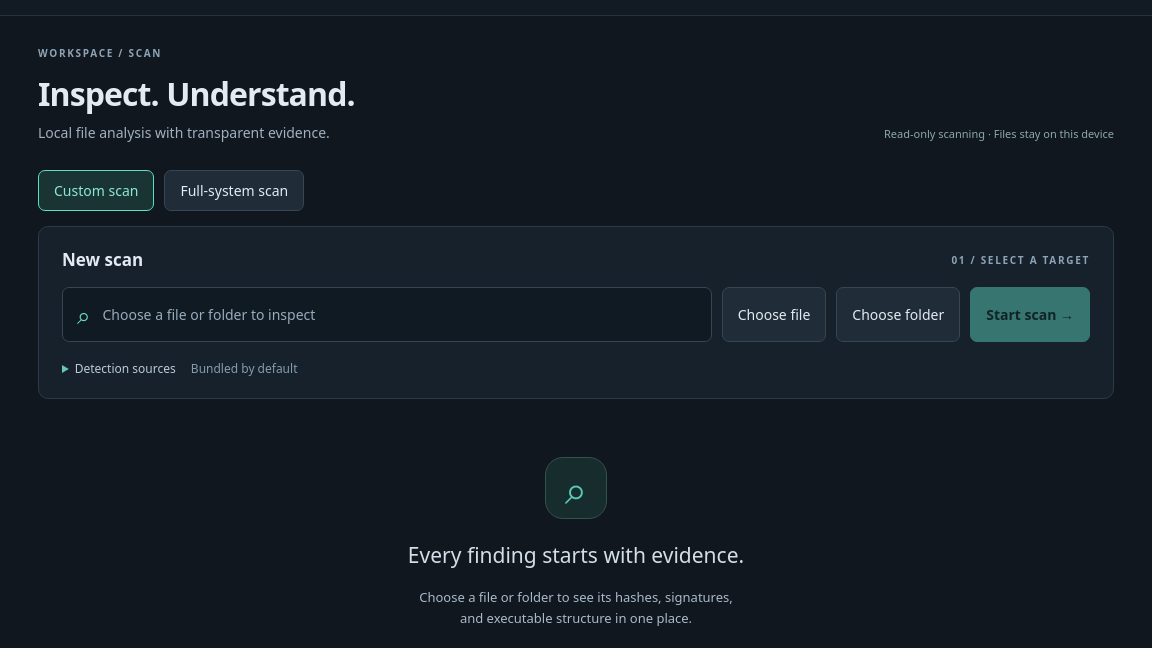
Test: desktop scan workflow › shows PE observations and flags integers beyond exact UI precision
Click the button "Choose folder" at (898, 315), box [836, 287, 960, 342]
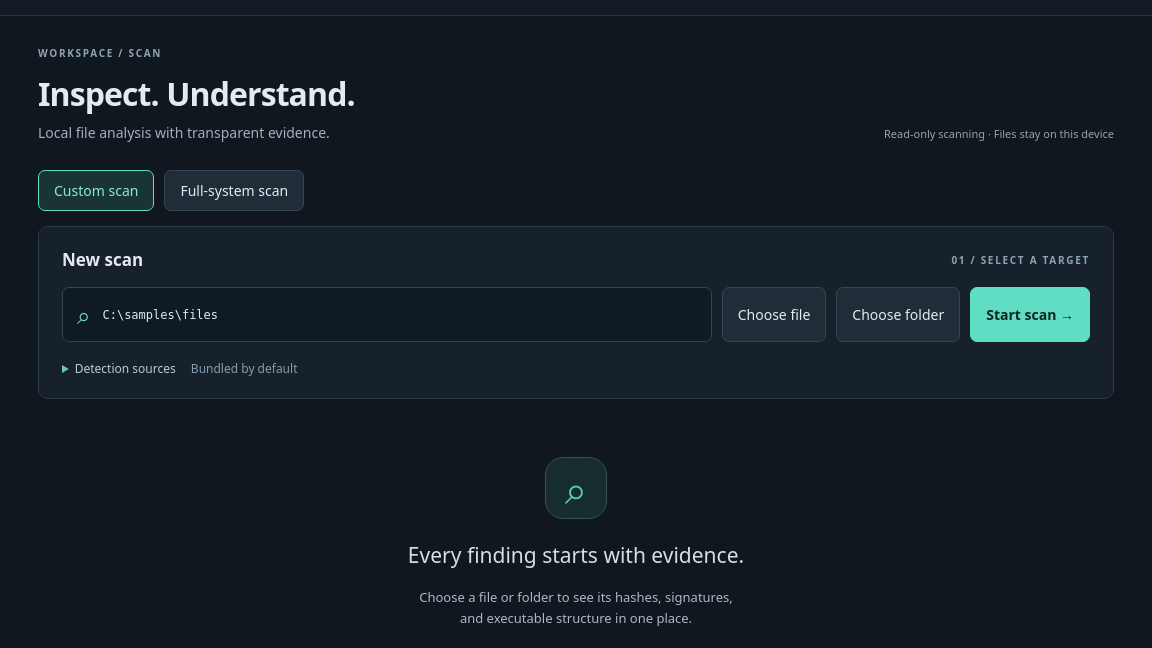
Click the button "Start scan →" at (1030, 315), box [970, 287, 1090, 342]
(page scrolled)
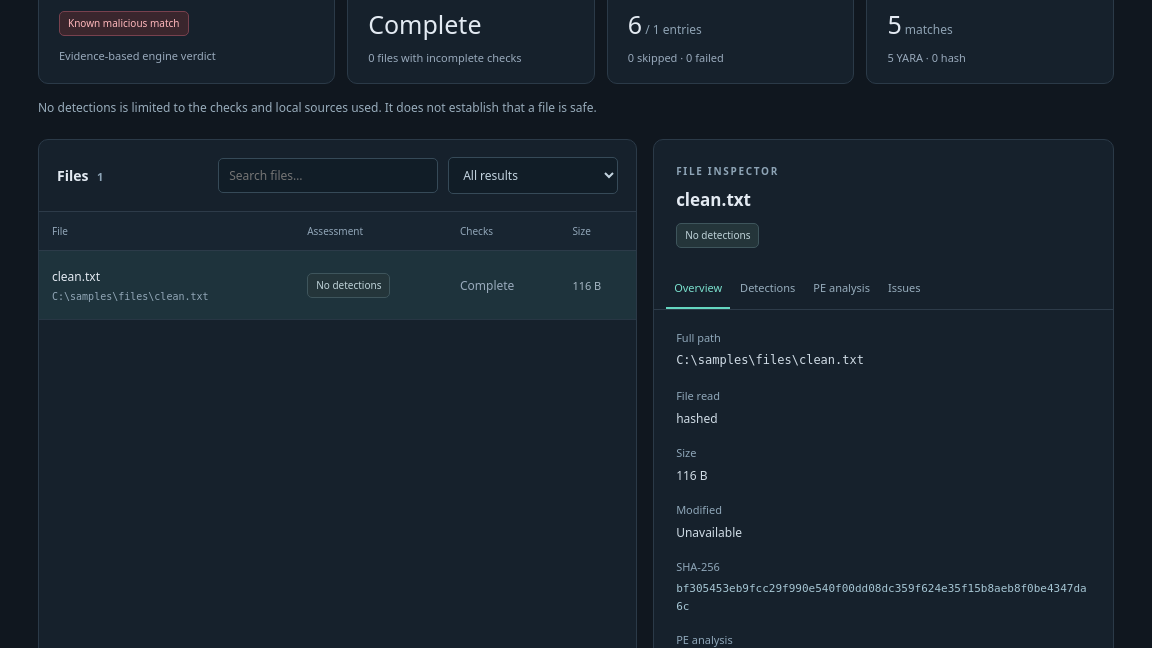
Click the tab "PE analysis" at (842, 289), box [805, 268, 878, 310]
(page scrolled)
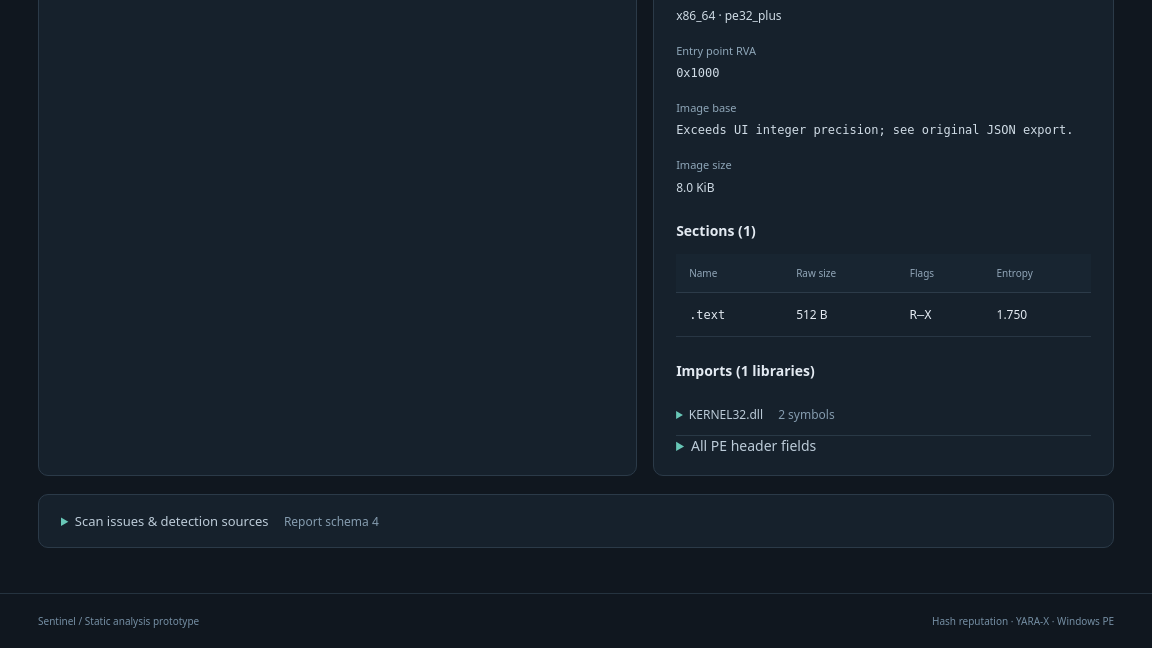
Check: the panel named "PE analysis" shows ".text", box [689, 308, 725, 322]
Check: the panel named "PE analysis" shows "1.750", box [996, 306, 1027, 323]
Check: the panel named "PE analysis" shows "Exceeds UI integer precision", box [676, 123, 1074, 137]
Click the heading "KERNEL32.dll 2 symbols" at (762, 415), box [689, 406, 835, 423]
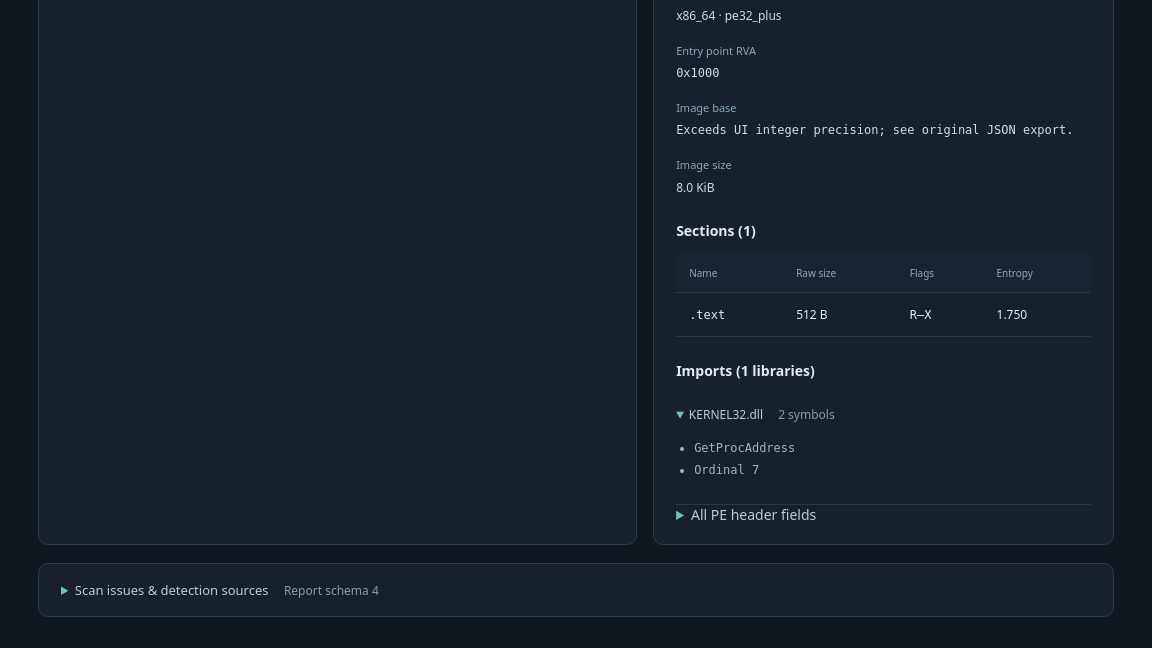
Check: the list item "GetProcAddress" is shown, box [694, 441, 795, 455]
Check: the list item "Ordinal 7" is shown, box [694, 463, 759, 477]
